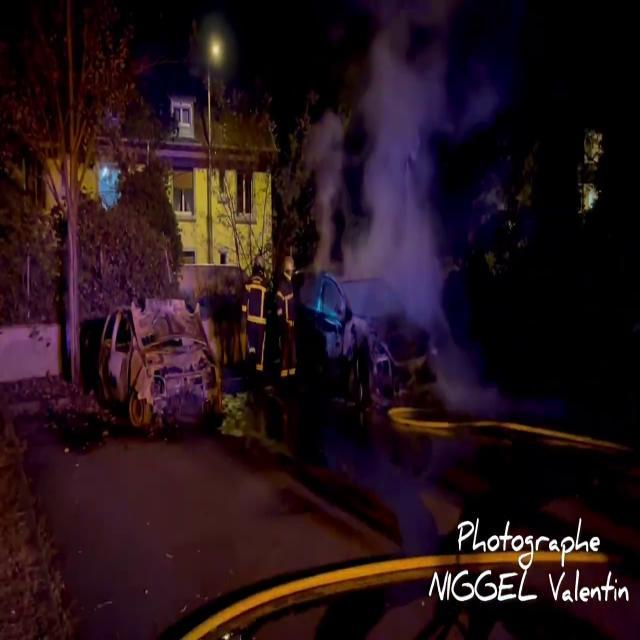Smoke: (311, 2, 492, 337)
